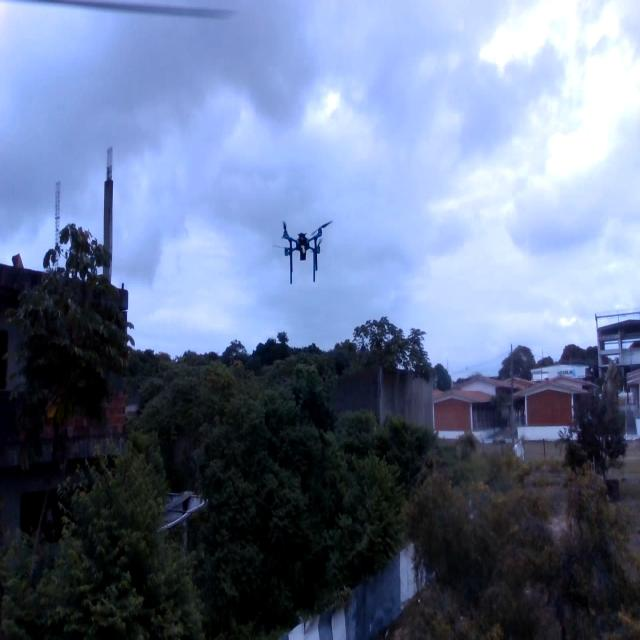-uav-: (271, 204, 338, 300)
